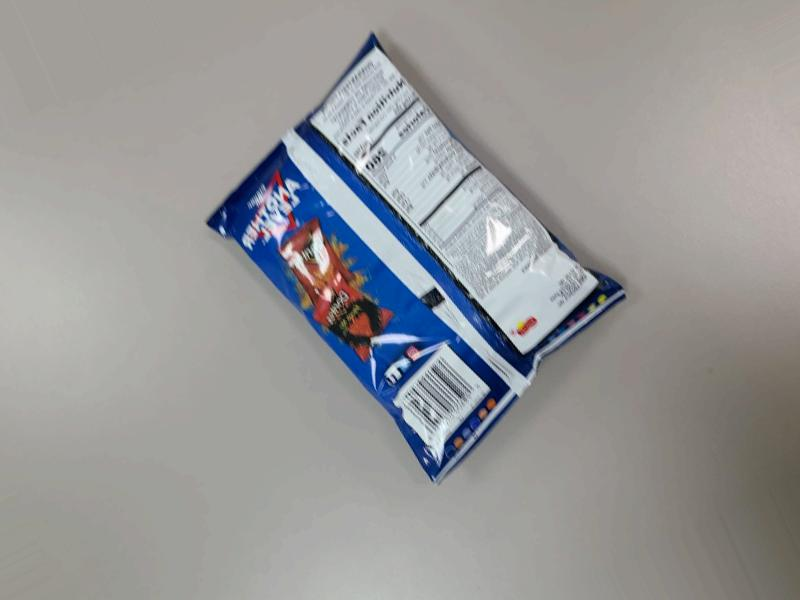doritos: (308, 52, 626, 600)
